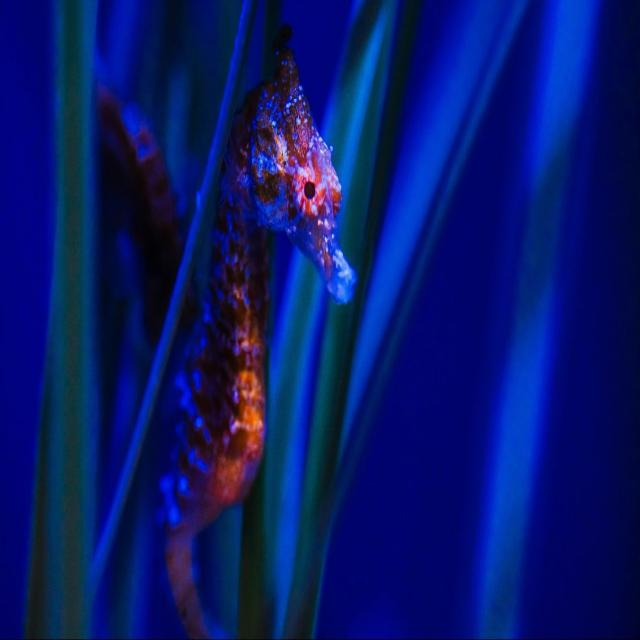seahorse: (160, 24, 356, 638)
